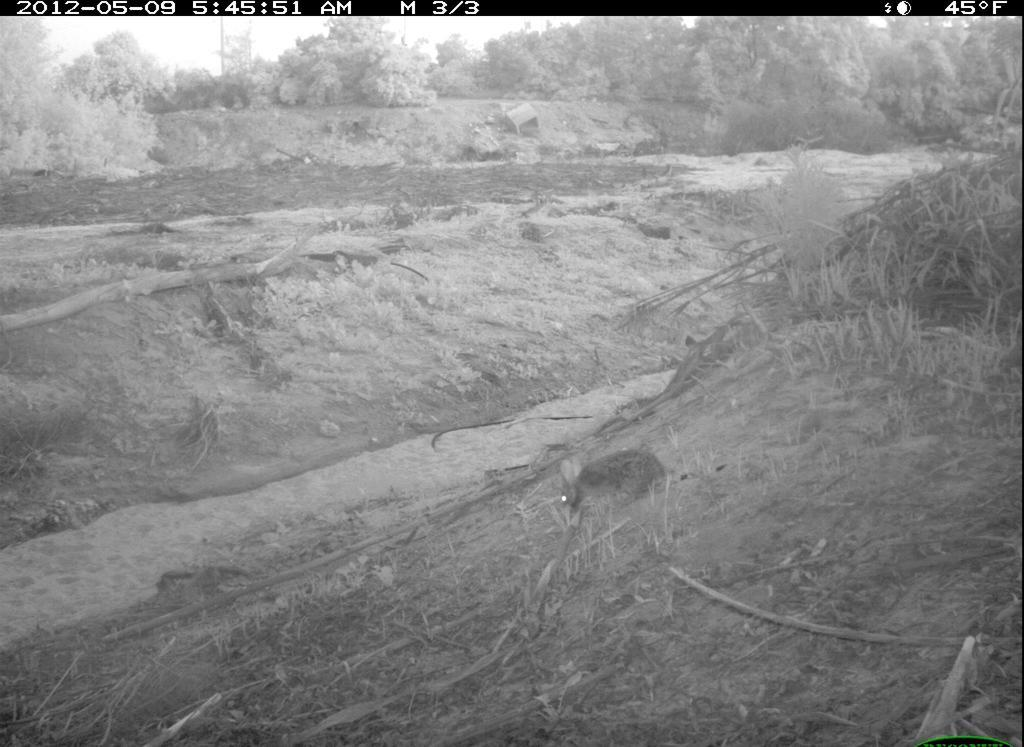rabbit: (547, 445, 674, 527)
